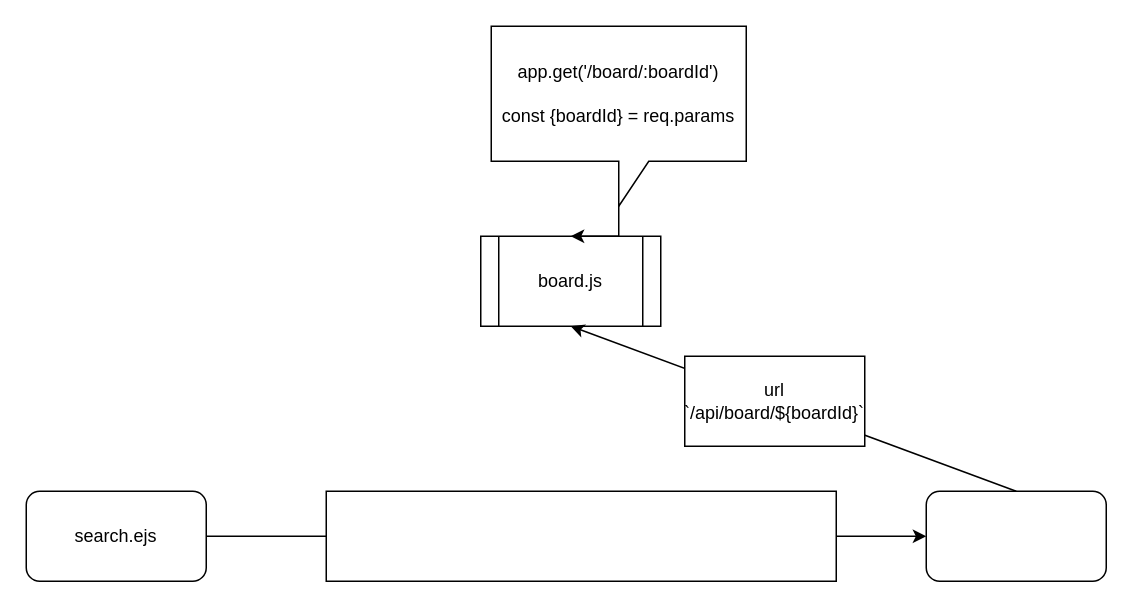
This 1133x608 diagram has some shape labels left out. The centre of each missing label's shape, as x and y in pixels:
detail.ejs: the point at 1015,535
onclick="location.href='/detail?boardId=${boards[i]["boardId"]}'": the point at 580,535
